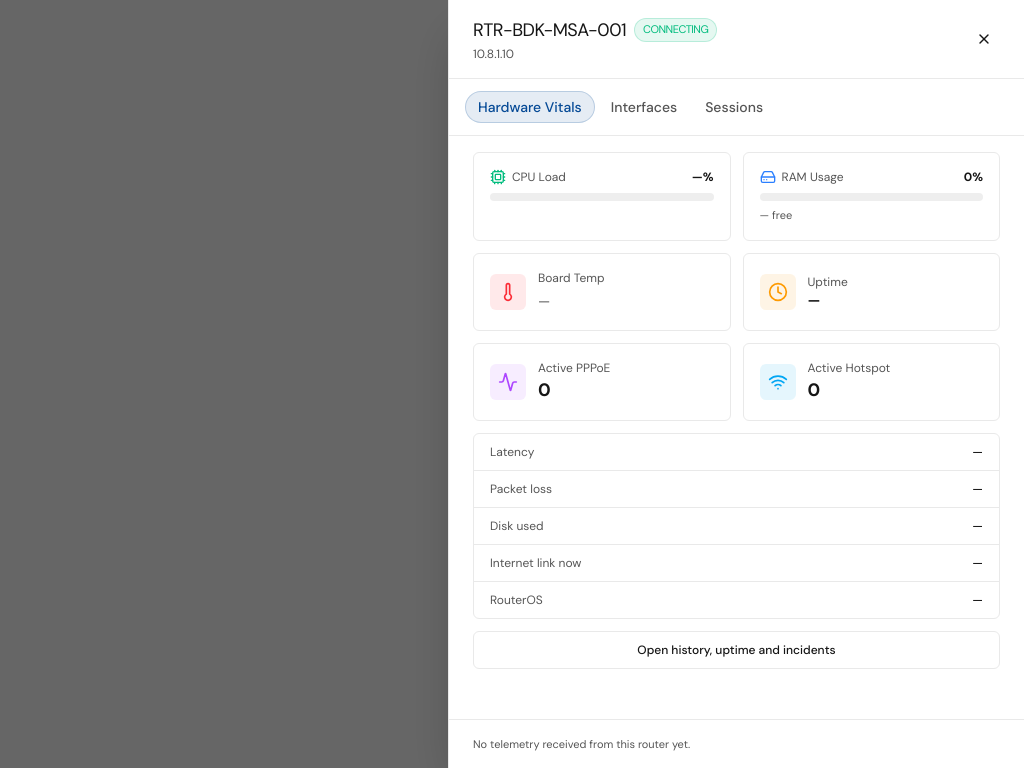
Test: RouterTelemetryDrawer › reads interfaces live by router id and shows current rates and totals
Click the tab "interfaces": (644, 107) [599,91,689,123]
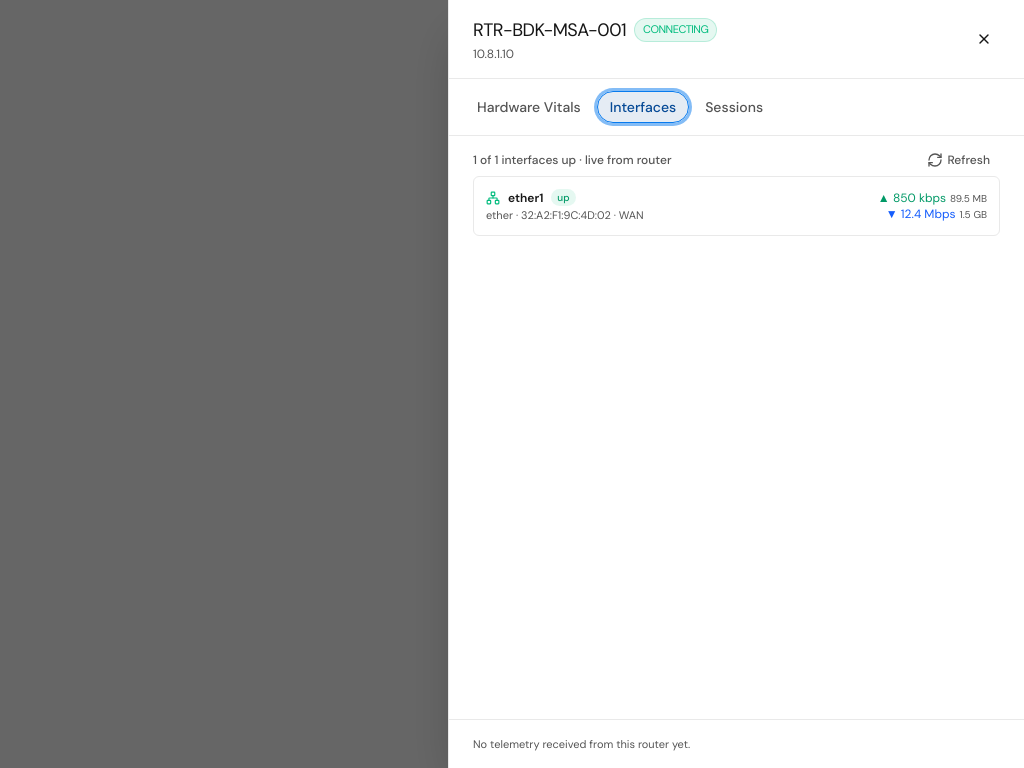
Expected: the text "ether1" is shown, [508,190,543,206]
Expected: the text "1.5 GB" is shown, [960,208,987,221]
Expected: the text "89.5 MB" is shown, [950,192,987,205]
